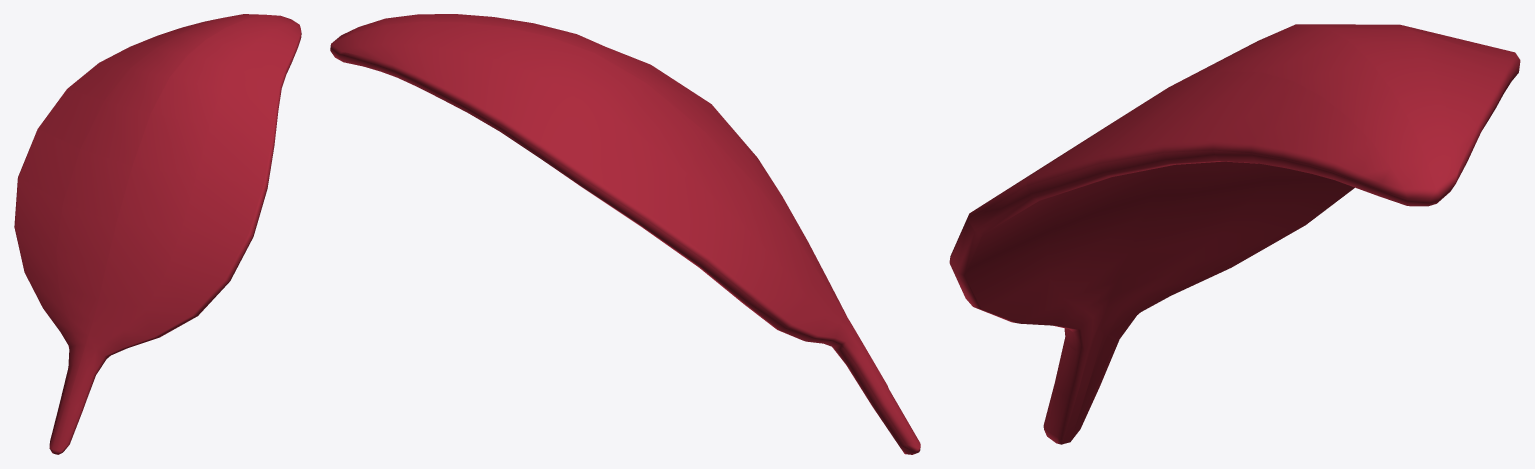
File: Leaf_10.fbx
3 renders of one model, left to right at view 1: azimuth 30°, elevation 25°; view 2: azimuth 150°, elevation 25°; view 3: azimuth 270°, elevation 25°, orthographic. The views are drawn at different scales.
Visible parts, largest first — view 1: Leaf_10; view 2: Leaf_10; view 3: Leaf_10.
Boxes of the visible parts, <box> form: Leaf_10: <box>14,14,301,454</box>; Leaf_10: <box>330,14,920,454</box>; Leaf_10: <box>949,24,1520,444</box>.
Bounding box in the file's own units: 181 × 159 × 133.
